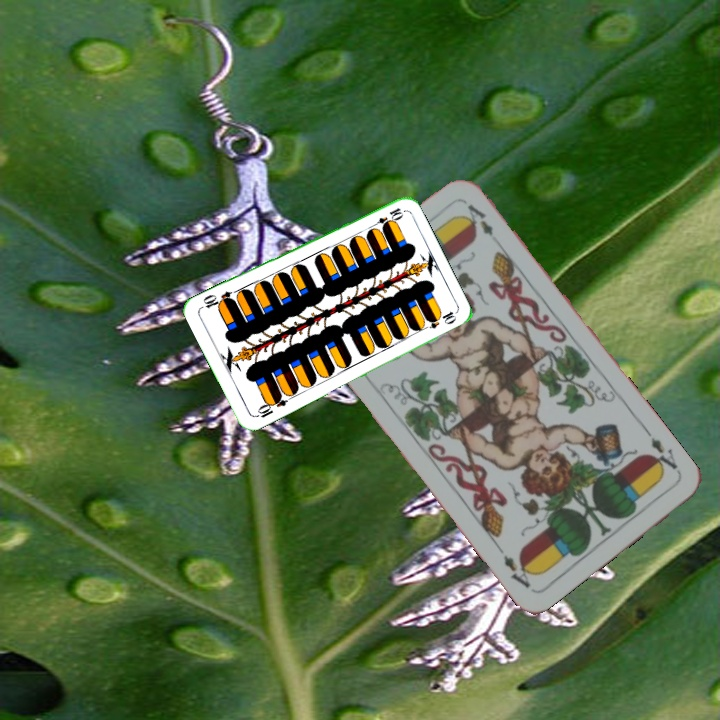E10: (251, 391, 289, 420), (367, 204, 405, 231)
EA: (644, 433, 681, 476)
